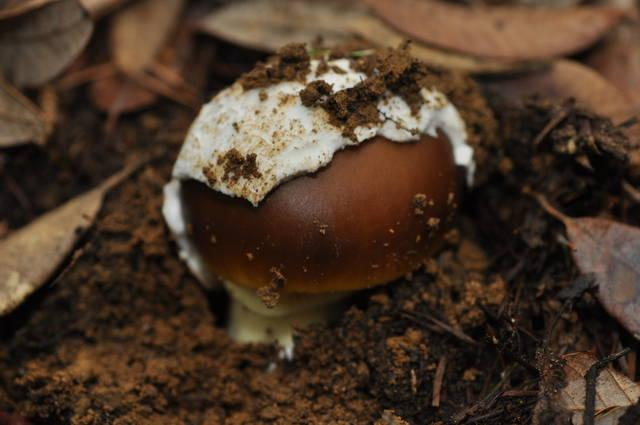Edible Mushroom: (159, 38, 477, 362)
